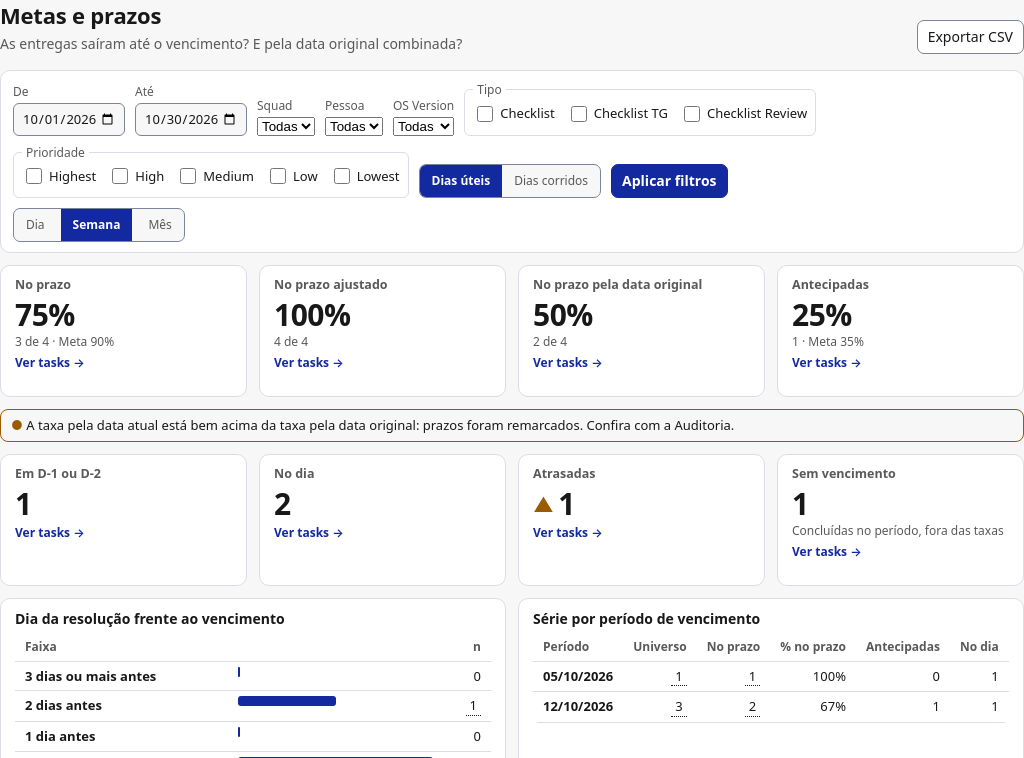
tela Metas › kpiAbreGavetaComMesmoTamanho
Click the button "75% 3 de 4 · Meta 90% Ver tasks →". click: (124, 335)
box: [15,298,232,372]
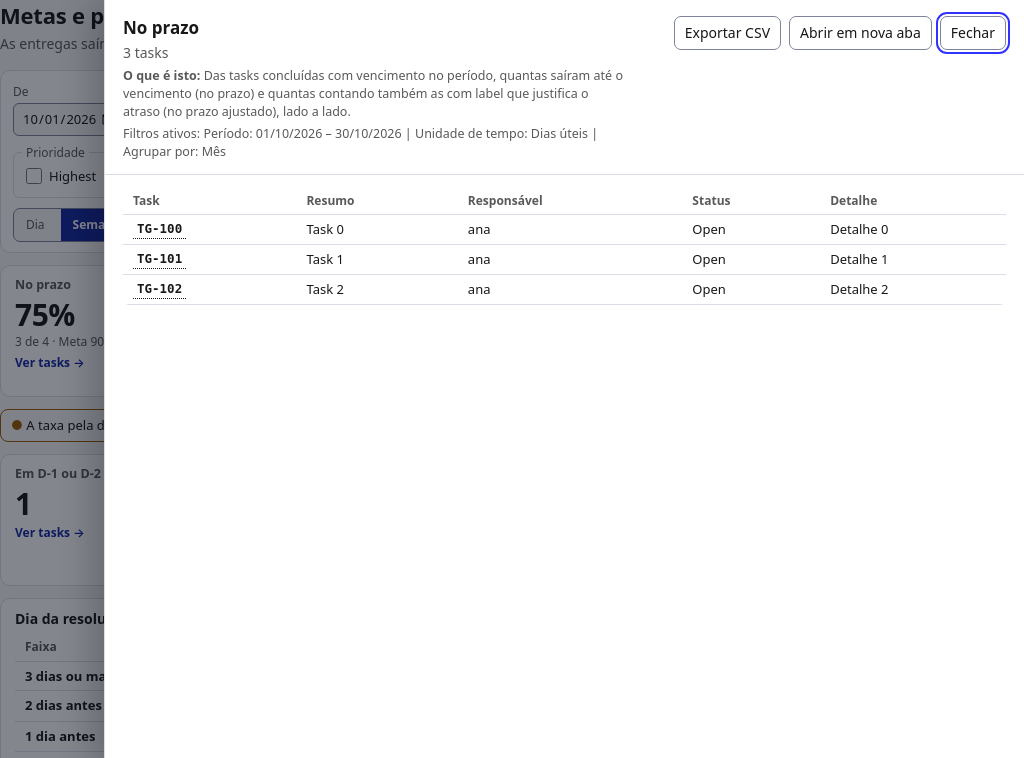
Now the text "3 tasks" is shown, box [123,43,168,62]
